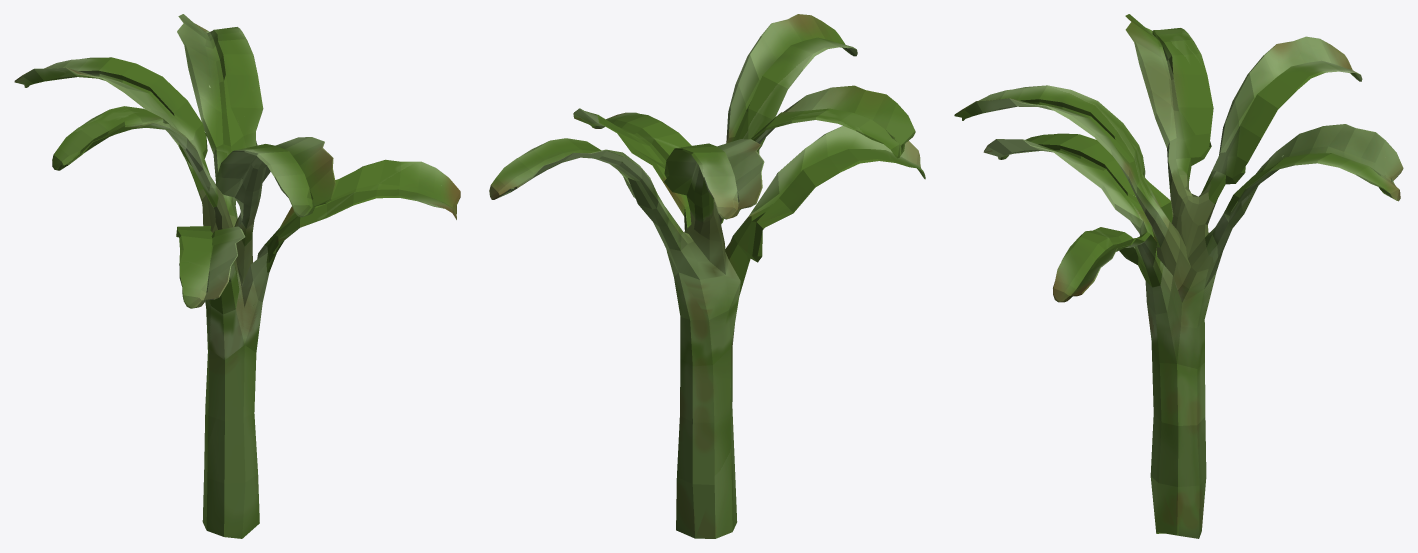
Rendered from BananaTree.fbx.
3 renders of one model, left to right at view 1: azimuth 30°, elevation 25°; view 2: azimuth 150°, elevation 25°; view 3: azimuth 270°, elevation 25°, orthographic. The views are drawn at different scales.
Visible parts, largest first — view 1: Banana Tree; view 2: Banana Tree; view 3: Banana Tree.
Part boxes in pixels (box(x1,y1,x2,y2)): Banana Tree: box(14, 14, 460, 538); Banana Tree: box(489, 14, 925, 538); Banana Tree: box(954, 14, 1403, 538).
Bounding box in the file's own units: 386 × 456 × 415.
